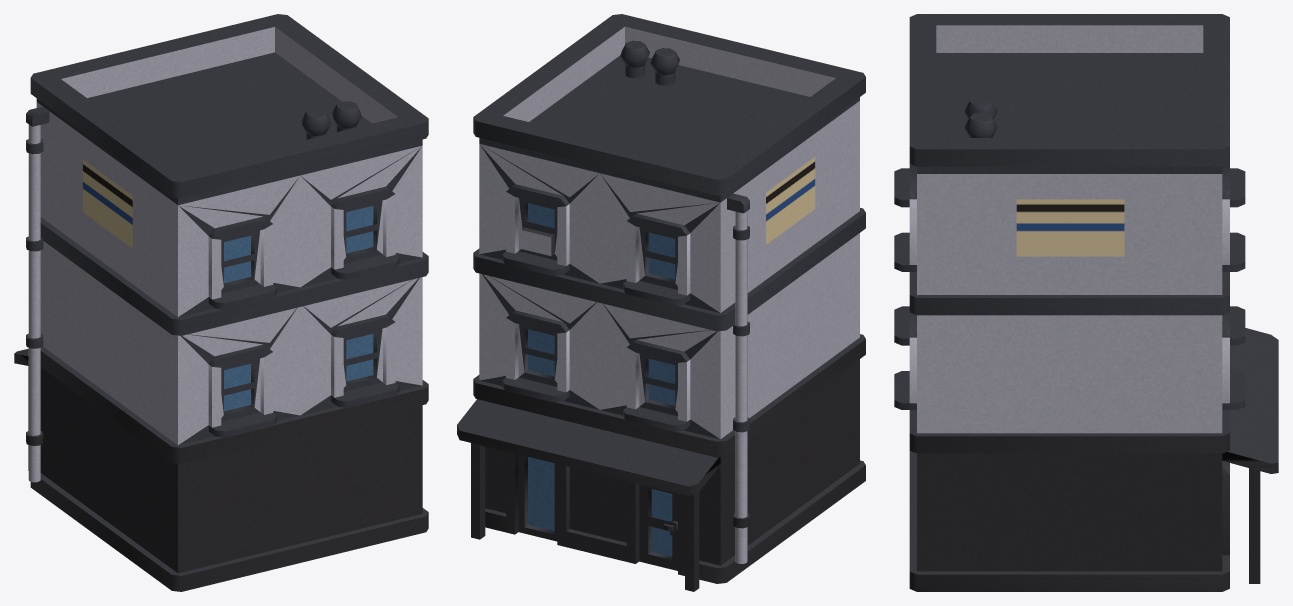
File: building-h-white.glb
The picture shows the model from 3 angles, left to right: view 1: azimuth 30°, elevation 25°; view 2: azimuth 150°, elevation 25°; view 3: azimuth 270°, elevation 25°; orthographic projection. The views are drawn at different scales.
Visible parts, largest first — view 1: building-h-white; view 2: building-h-white; view 3: building-h-white.
Boxes of the visible parts, box(x1,y1,x2,y2) form: building-h-white: box(14, 14, 428, 591); building-h-white: box(457, 14, 865, 591); building-h-white: box(894, 14, 1278, 591).
Size of the model in its own units: 0.8836 by 1.29 by 1.01.
1 material, 1 textured.
